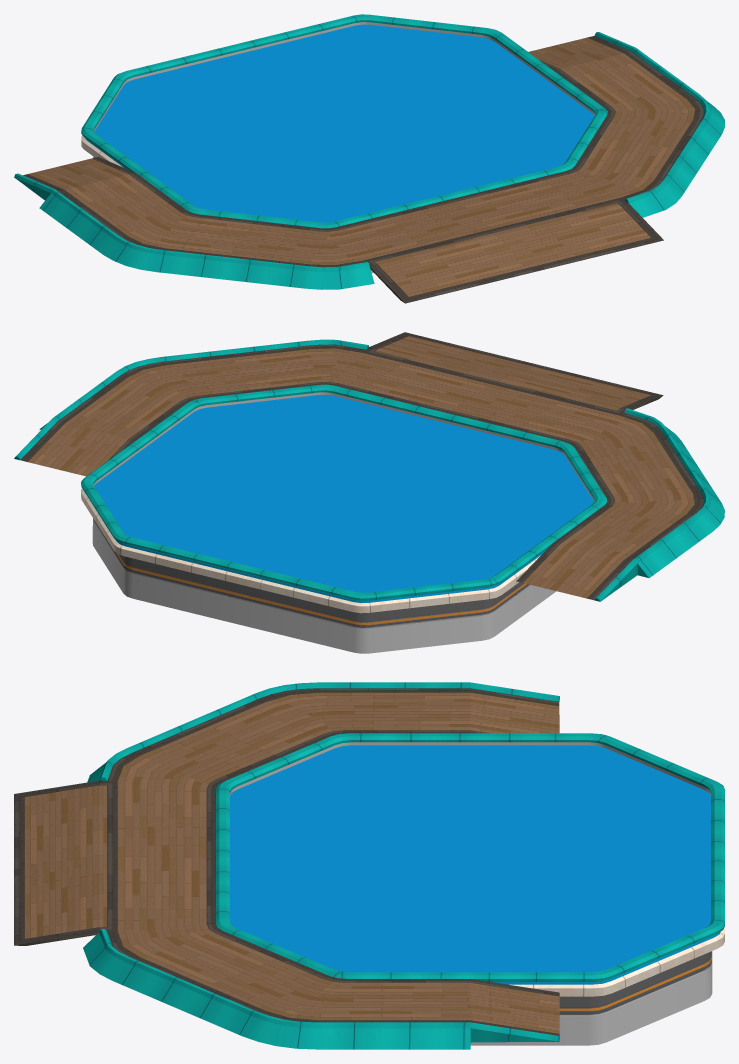
The model's file is FishingPool.fbx.
3 views of the same model, one above another, from view 1: azimuth 30°, elevation 25°; view 2: azimuth 150°, elevation 25°; view 3: azimuth 270°, elevation 25° (orthographic). The views are drawn at different scales.
Parts seen in each view (by area): view 1: FishingPool_Water, FishingPool_Walkway, FishingPool_Edging, FishingPool_Basin; view 2: FishingPool_Water, FishingPool_Walkway, FishingPool_Edging, FishingPool_Basin, FishingPool_Neon; view 3: FishingPool_Water, FishingPool_Walkway, FishingPool_Edging, FishingPool_Basin, FishingPool_Neon.
Boxes of the visible parts, x1,y1,x2,y2 form: FishingPool_Water: (94,24,594,222); FishingPool_Walkway: (23,36,704,303); FishingPool_Edging: (14,14,724,289); FishingPool_Basin: (93,22,594,273); FishingPool_Water: (94,394,593,592); FishingPool_Walkway: (20,332,704,600); FishingPool_Edging: (14,339,724,613); FishingPool_Basin: (92,392,594,653); FishingPool_Neon: (115,539,545,603); FishingPool_Water: (230,745,710,972); FishingPool_Walkway: (14,688,559,1035); FishingPool_Edging: (83,682,724,1049); FishingPool_Basin: (230,742,712,1045); FishingPool_Neon: (491,931,720,984).
Size of the model in its own units: 1234 by 121 by 1038.
